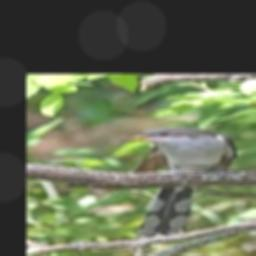Cuckoo: (119, 126, 238, 238)
